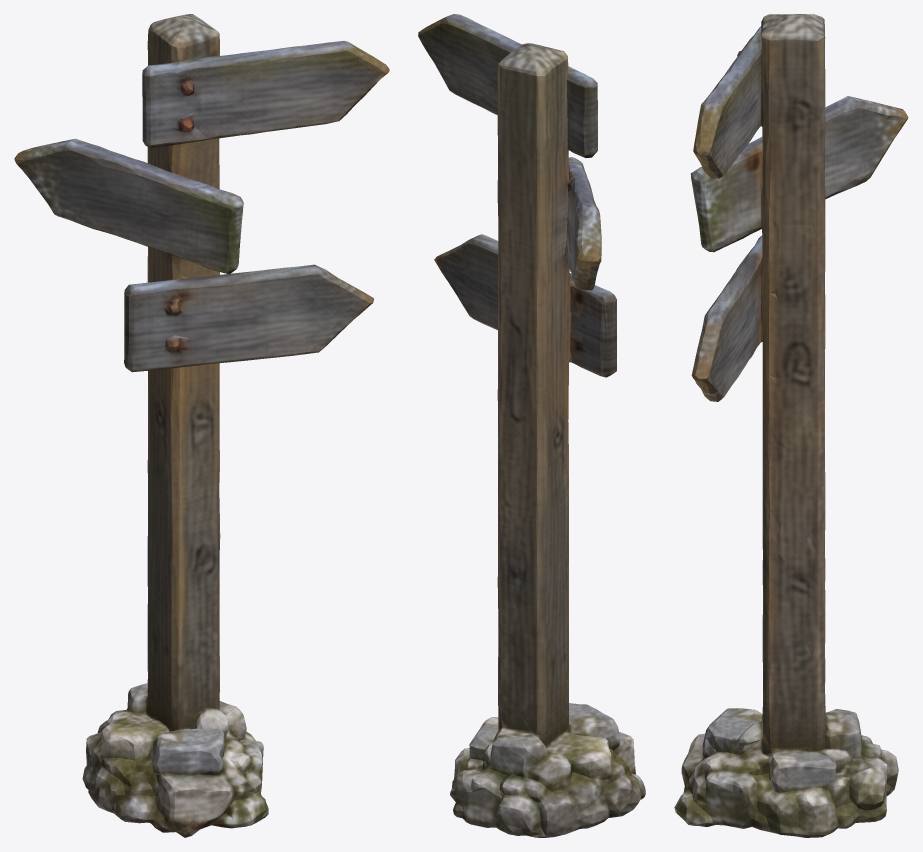
Rendered from signpost.obj.
The picture shows the model from 3 angles, left to right: view 1: azimuth 30°, elevation 25°; view 2: azimuth 150°, elevation 25°; view 3: azimuth 270°, elevation 25°; orthographic projection. The views are drawn at different scales.
Visible parts, largest first — view 1: signpost; view 2: signpost; view 3: signpost.
Boxes of the visible parts, x1=… form: signpost: x1=14, y1=14, x2=389, y2=837; signpost: x1=418, y1=14, x2=645, y2=837; signpost: x1=674, y1=14, x2=908, y2=837.
Size of the model in its own units: 1.13 by 3 by 0.8002.
Materials: 1 (1 with a texture image).
